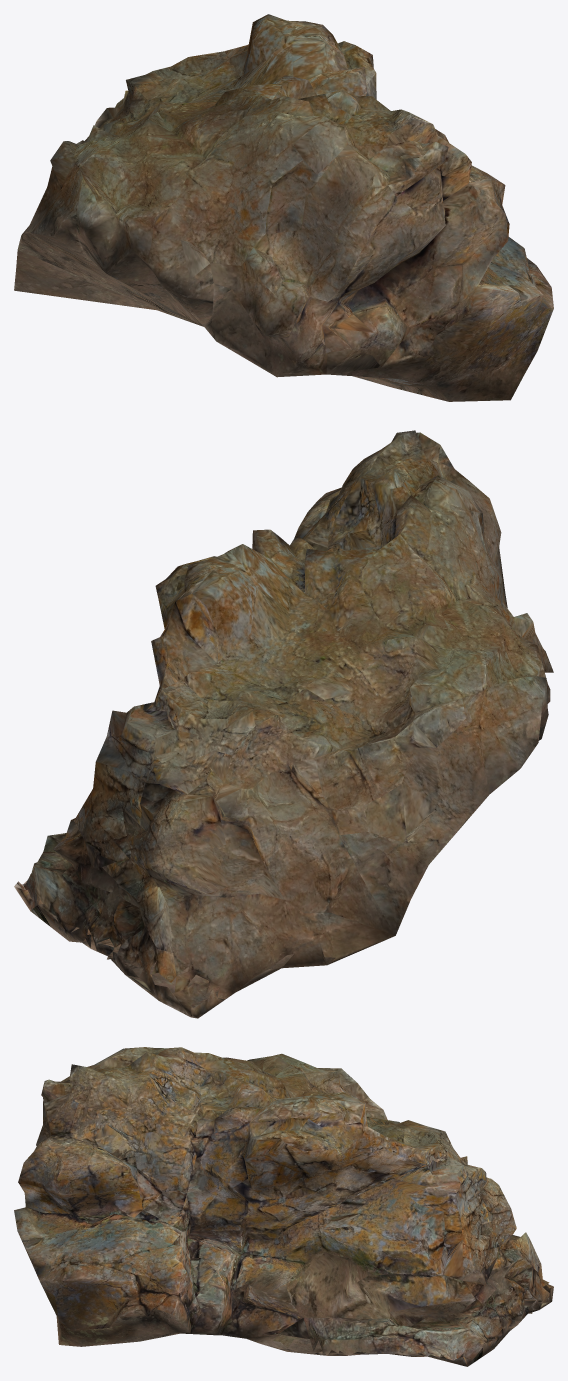
The model's file is scan_boulder.glb.
3 views of the same model, one above another, from view 1: azimuth 30°, elevation 25°; view 2: azimuth 150°, elevation 25°; view 3: azimuth 270°, elevation 25° (orthographic). The views are drawn at different scales.
Parts seen in each view (by area): view 1: scan_boulder; view 2: scan_boulder; view 3: scan_boulder.
Boxes of the visible parts, <box> form: scan_boulder: <box>14,14,553,401</box>; scan_boulder: <box>14,430,553,1018</box>; scan_boulder: <box>14,1047,553,1366</box>.
Size of the model in its own units: 1.27 by 1 by 1.82.
Materials: 1 (1 with a texture image).
